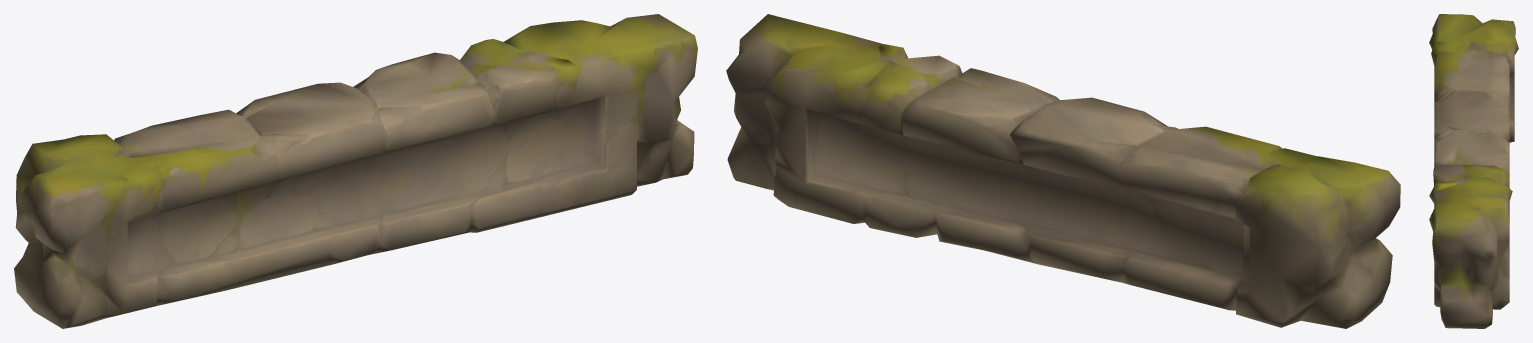
File: SM_FR_FallenLintel.fbx
3 renders of one model, left to right at view 1: azimuth 30°, elevation 25°; view 2: azimuth 150°, elevation 25°; view 3: azimuth 270°, elevation 25°, orthographic. The views are drawn at different scales.
Visible parts, largest first — view 1: SM_FR_FallenLintel; view 2: SM_FR_FallenLintel; view 3: SM_FR_FallenLintel.
Boxes of the visible parts, x1,y1,x2,y2 form: SM_FR_FallenLintel: (14, 14, 697, 328); SM_FR_FallenLintel: (726, 14, 1400, 328); SM_FR_FallenLintel: (1429, 14, 1518, 328).
Size of the model in its own units: 3.5 by 0.7603 by 0.5959.
Materials: 1 (1 with a texture image).
